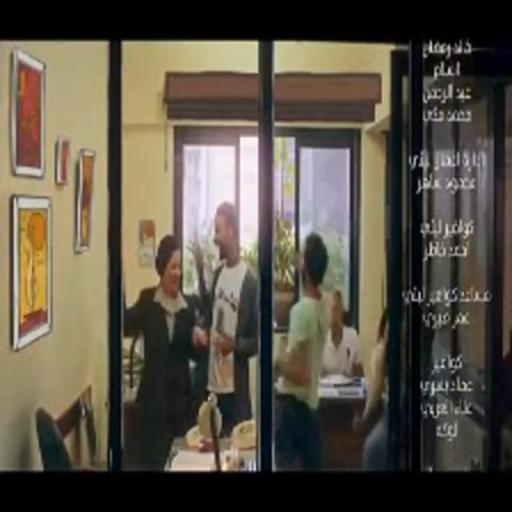nao-violencia: (120, 189, 258, 472)
